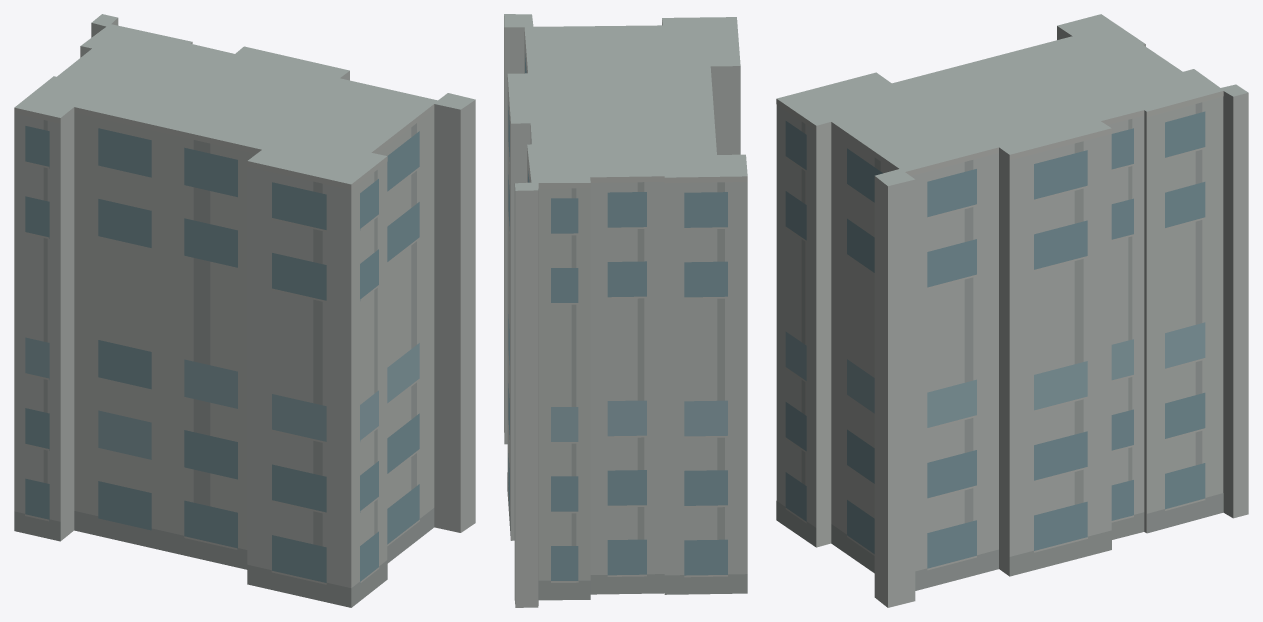
Rendered from survey-upis-32749992.glb.
3 views of the same model, side by side, from view 1: azimuth 30°, elevation 25°; view 2: azimuth 150°, elevation 25°; view 3: azimuth 270°, elevation 25° (orthographic).
Visible parts, largest first — view 1: survey-upis-32749992.tmp; view 2: survey-upis-32749992.tmp; view 3: survey-upis-32749992.tmp.
Boxes of the visible parts, x1,y1,x2,y2 form: survey-upis-32749992.tmp: (14,14,475,607); survey-upis-32749992.tmp: (504,14,747,607); survey-upis-32749992.tmp: (776,14,1248,607).
Size of the model in its own units: 16.03 by 18.3 by 18.57.
